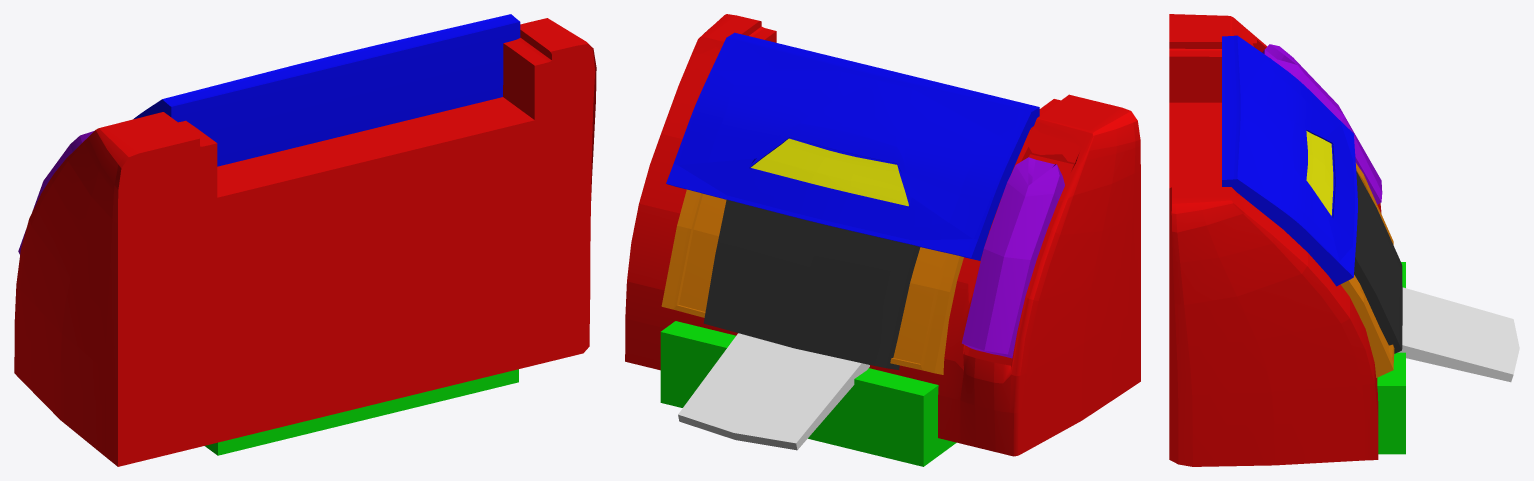
The model's file is fax_machine.fbx.
3 renders of one model, left to right at view 1: azimuth 30°, elevation 25°; view 2: azimuth 150°, elevation 25°; view 3: azimuth 270°, elevation 25°, orthographic. The views are drawn at different scales.
Parts seen in each view (by area): view 1: polySurface381, polySurface385, polySurface382; view 2: polySurface381, polySurface385, polySurface388, polySurface387, polySurface382, polySurface386, polySurface383; view 3: polySurface381, polySurface385, polySurface387, polySurface388, polySurface382, polySurface383, polySurface386.
Boxes of the visible parts, x1,y1,x2,y2 form: polySurface381: [14, 18, 596, 466]; polySurface385: [133, 14, 520, 166]; polySurface382: [205, 369, 518, 455]; polySurface381: [625, 14, 1140, 456]; polySurface385: [666, 32, 1039, 260]; polySurface388: [703, 200, 920, 369]; polySurface387: [678, 333, 869, 450]; polySurface382: [660, 321, 956, 466]; polySurface386: [661, 189, 963, 374]; polySurface383: [962, 157, 1064, 358]; polySurface381: [1169, 14, 1381, 466]; polySurface385: [1222, 35, 1357, 286]; polySurface387: [1398, 287, 1519, 382]; polySurface388: [1354, 171, 1402, 353]; polySurface382: [1377, 262, 1405, 454]; polySurface383: [1262, 44, 1382, 204]; polySurface386: [1341, 163, 1394, 377].
Bounding box in the file's own units: 52.01 × 34.75 × 38.67.
